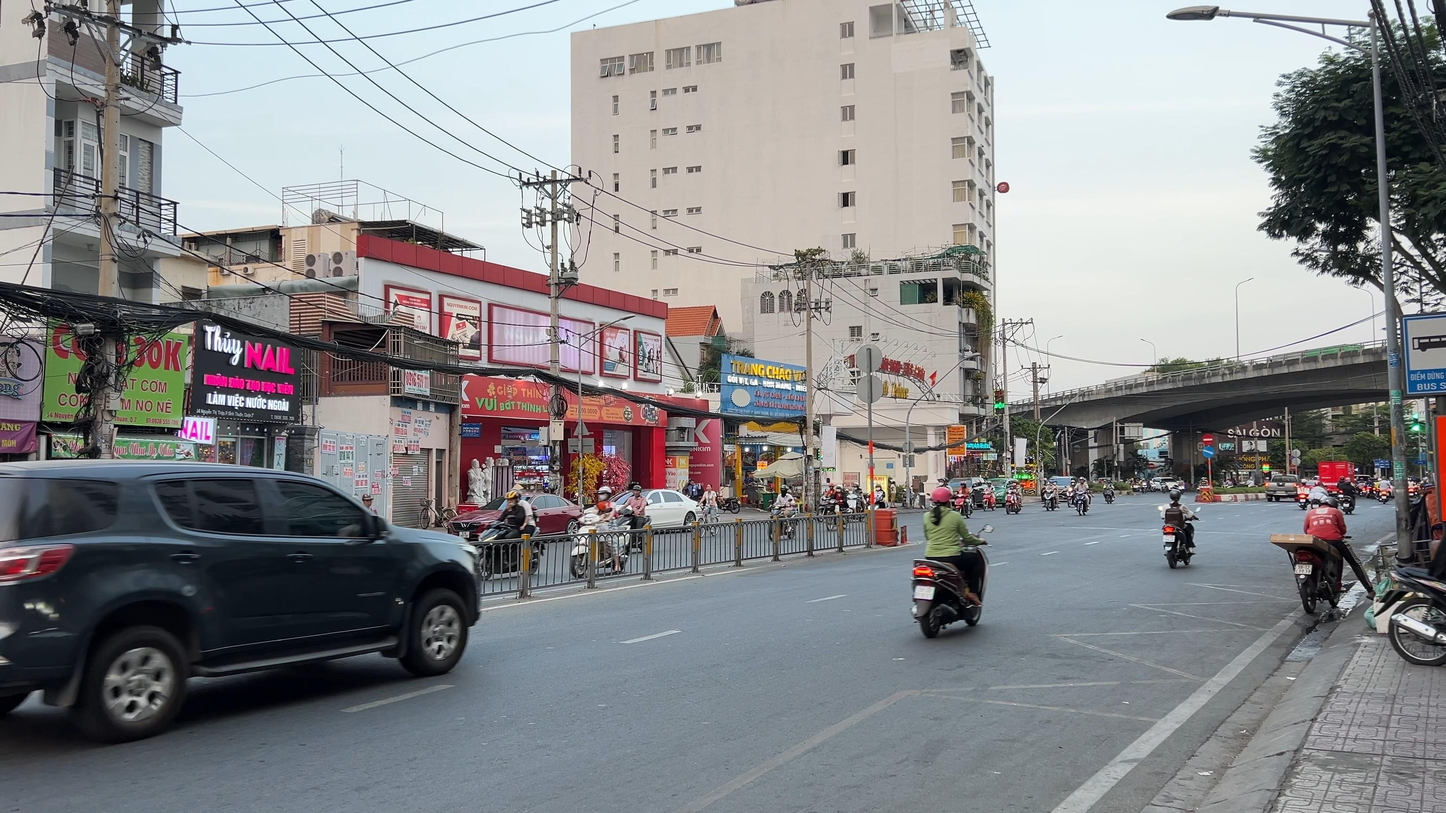bicyclist: (695, 483, 720, 538)
driver: (910, 486, 996, 638), (1270, 497, 1376, 613), (475, 488, 546, 581), (571, 486, 631, 578), (1158, 489, 1201, 568), (613, 485, 654, 556), (768, 485, 798, 541), (825, 485, 851, 531), (954, 481, 974, 519), (1002, 480, 1023, 515), (1073, 477, 1091, 516), (1042, 479, 1061, 511), (980, 480, 996, 512), (1297, 479, 1311, 510)
helmet: (932, 487, 952, 506), (504, 490, 520, 507), (1320, 496, 1338, 509), (598, 486, 612, 501), (1170, 489, 1181, 501), (632, 485, 642, 497)
no-helmet: (706, 484, 712, 491)
